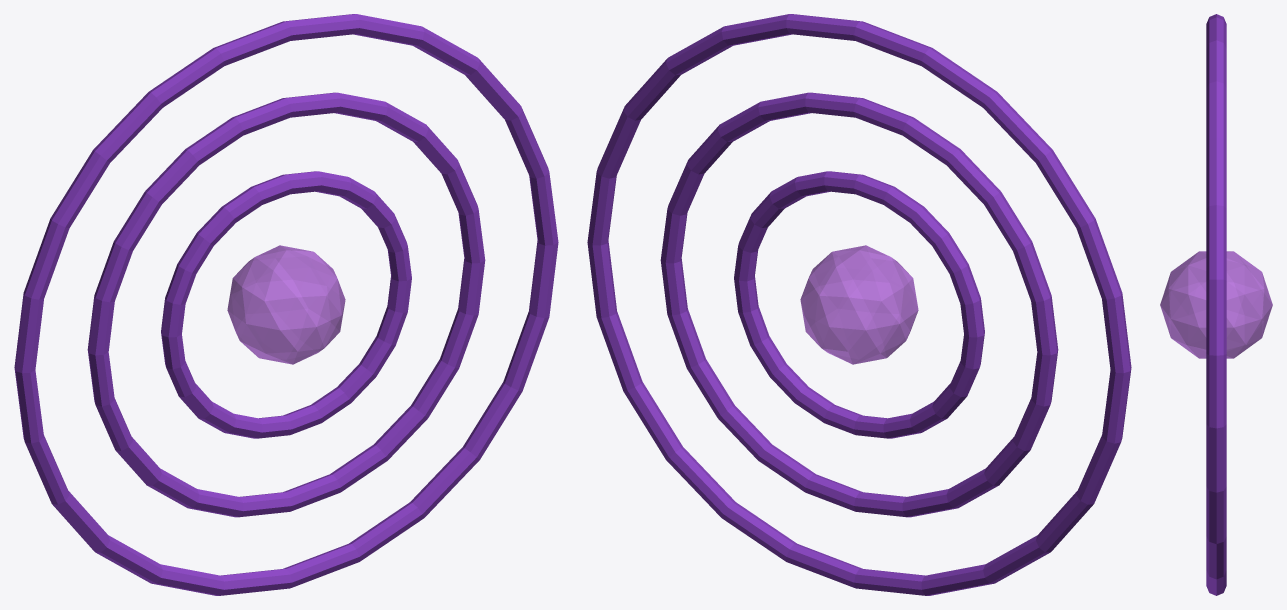
The model's file is echo-warden-awakening.glb.
The picture shows the model from 3 angles, left to right: view 1: azimuth 30°, elevation 25°; view 2: azimuth 150°, elevation 25°; view 3: azimuth 270°, elevation 25°; orthographic projection. The views are drawn at different scales.
Parts seen in each view (by area): view 1: awakening-ring-2, awakening-ring-1, awakening-ring-0, awakening-flare-core; view 2: awakening-ring-2, awakening-ring-1, awakening-ring-0, awakening-flare-core; view 3: awakening-ring-2, awakening-flare-core.
Part boxes in pixels (left/top/right/bottom): awakening-ring-2: left=14, top=14, right=558, bottom=595; awakening-ring-1: left=87, top=92, right=485, bottom=517; awakening-ring-0: left=161, top=171, right=411, bottom=438; awakening-flare-core: left=227, top=245, right=345, bottom=364; awakening-ring-2: left=587, top=14, right=1131, bottom=595; awakening-ring-1: left=660, top=92, right=1058, bottom=517; awakening-ring-0: left=734, top=171, right=984, bottom=438; awakening-flare-core: left=800, top=245, right=918, bottom=364; awakening-ring-2: left=1206, top=14, right=1226, bottom=595; awakening-flare-core: left=1160, top=251, right=1272, bottom=358.
Bounding box in the file's own units: 1.04 × 1.04 × 0.2.
